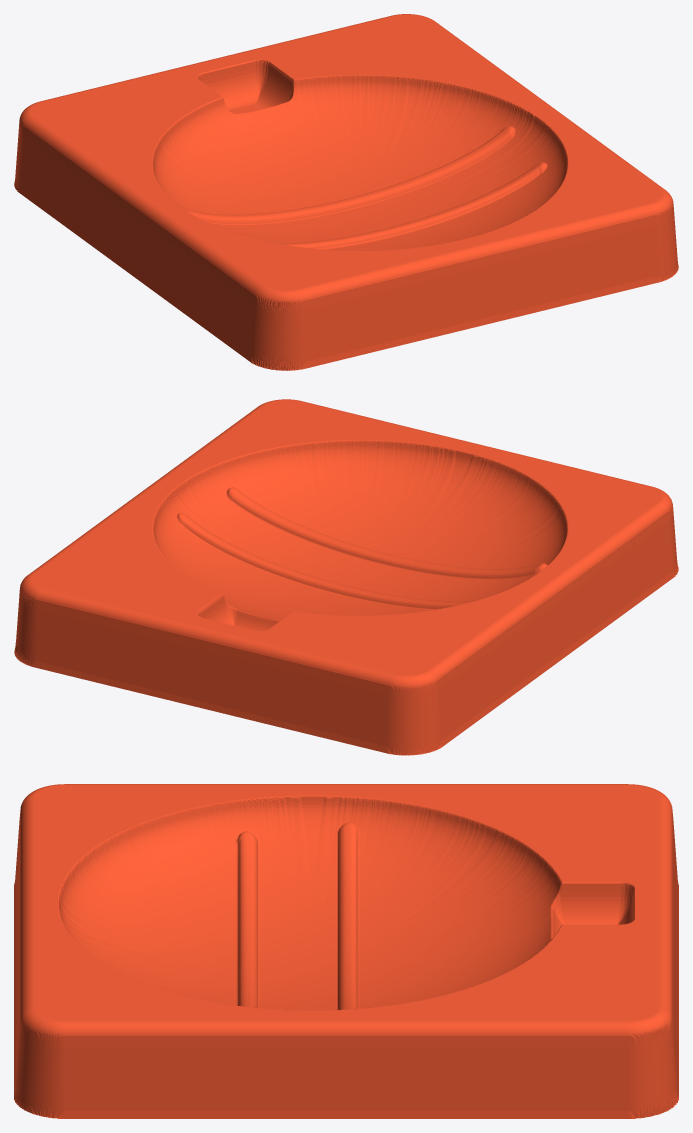
Rendered from mold.glb.
3 views of the same model, one above another, from view 1: azimuth 30°, elevation 25°; view 2: azimuth 150°, elevation 25°; view 3: azimuth 270°, elevation 25° (orthographic). The views are drawn at different scales.
Parts seen in each view (by area): view 1: geometry_0; view 2: geometry_0; view 3: geometry_0.
Part boxes in pixels (x1,y1,x2,y2): geometry_0: (14, 14, 678, 370); geometry_0: (14, 399, 678, 755); geometry_0: (14, 784, 678, 1118).
Bounding box in the file's own units: 0.1058 × 0.0175 × 0.1178.
